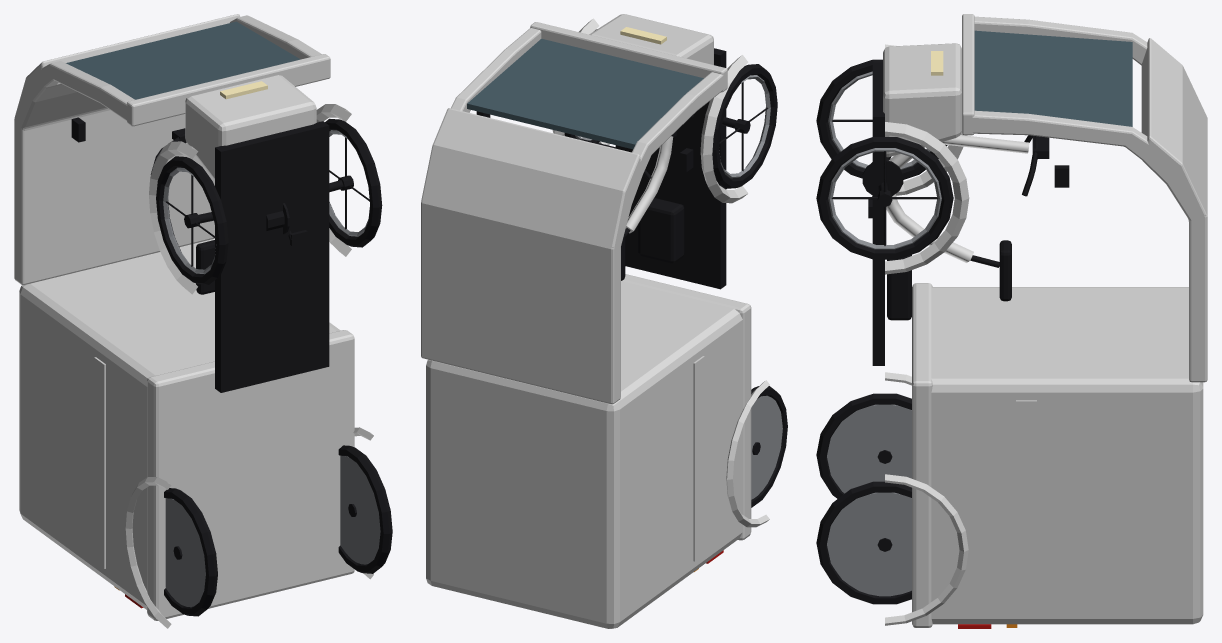
File: SolarpunkCoveredCargoBike01.fbx
3 views of the same model, side by side, from view 1: azimuth 30°, elevation 25°; view 2: azimuth 150°, elevation 25°; view 3: azimuth 270°, elevation 25° (orthographic). The views are drawn at different scales.
Parts seen in each view (by area): view 1: SolarpunkCoveredCargoBike01; view 2: SolarpunkCoveredCargoBike01; view 3: SolarpunkCoveredCargoBike01.
Boxes of the visible parts, x1=… form: SolarpunkCoveredCargoBike01: x1=14, y1=14, x2=392, y2=628; SolarpunkCoveredCargoBike01: x1=421, y1=14, x2=787, y2=628; SolarpunkCoveredCargoBike01: x1=816, y1=14, x2=1207, y2=628.
Bounding box in the file's own units: 124 × 276 × 188.
1 material, 1 textured.
